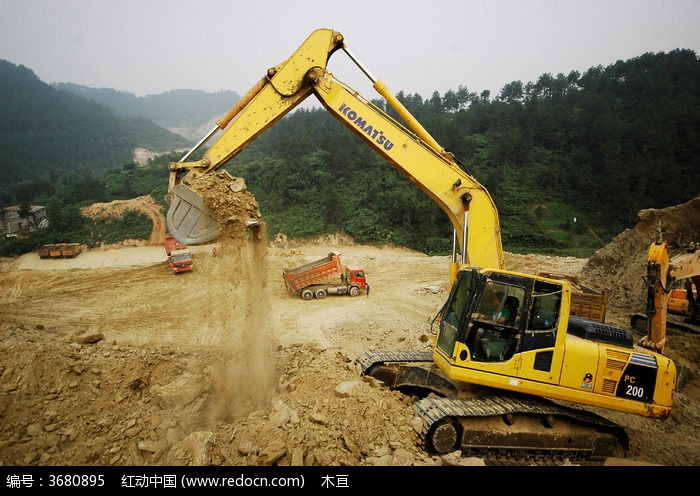excavator: (161, 16, 694, 460)
